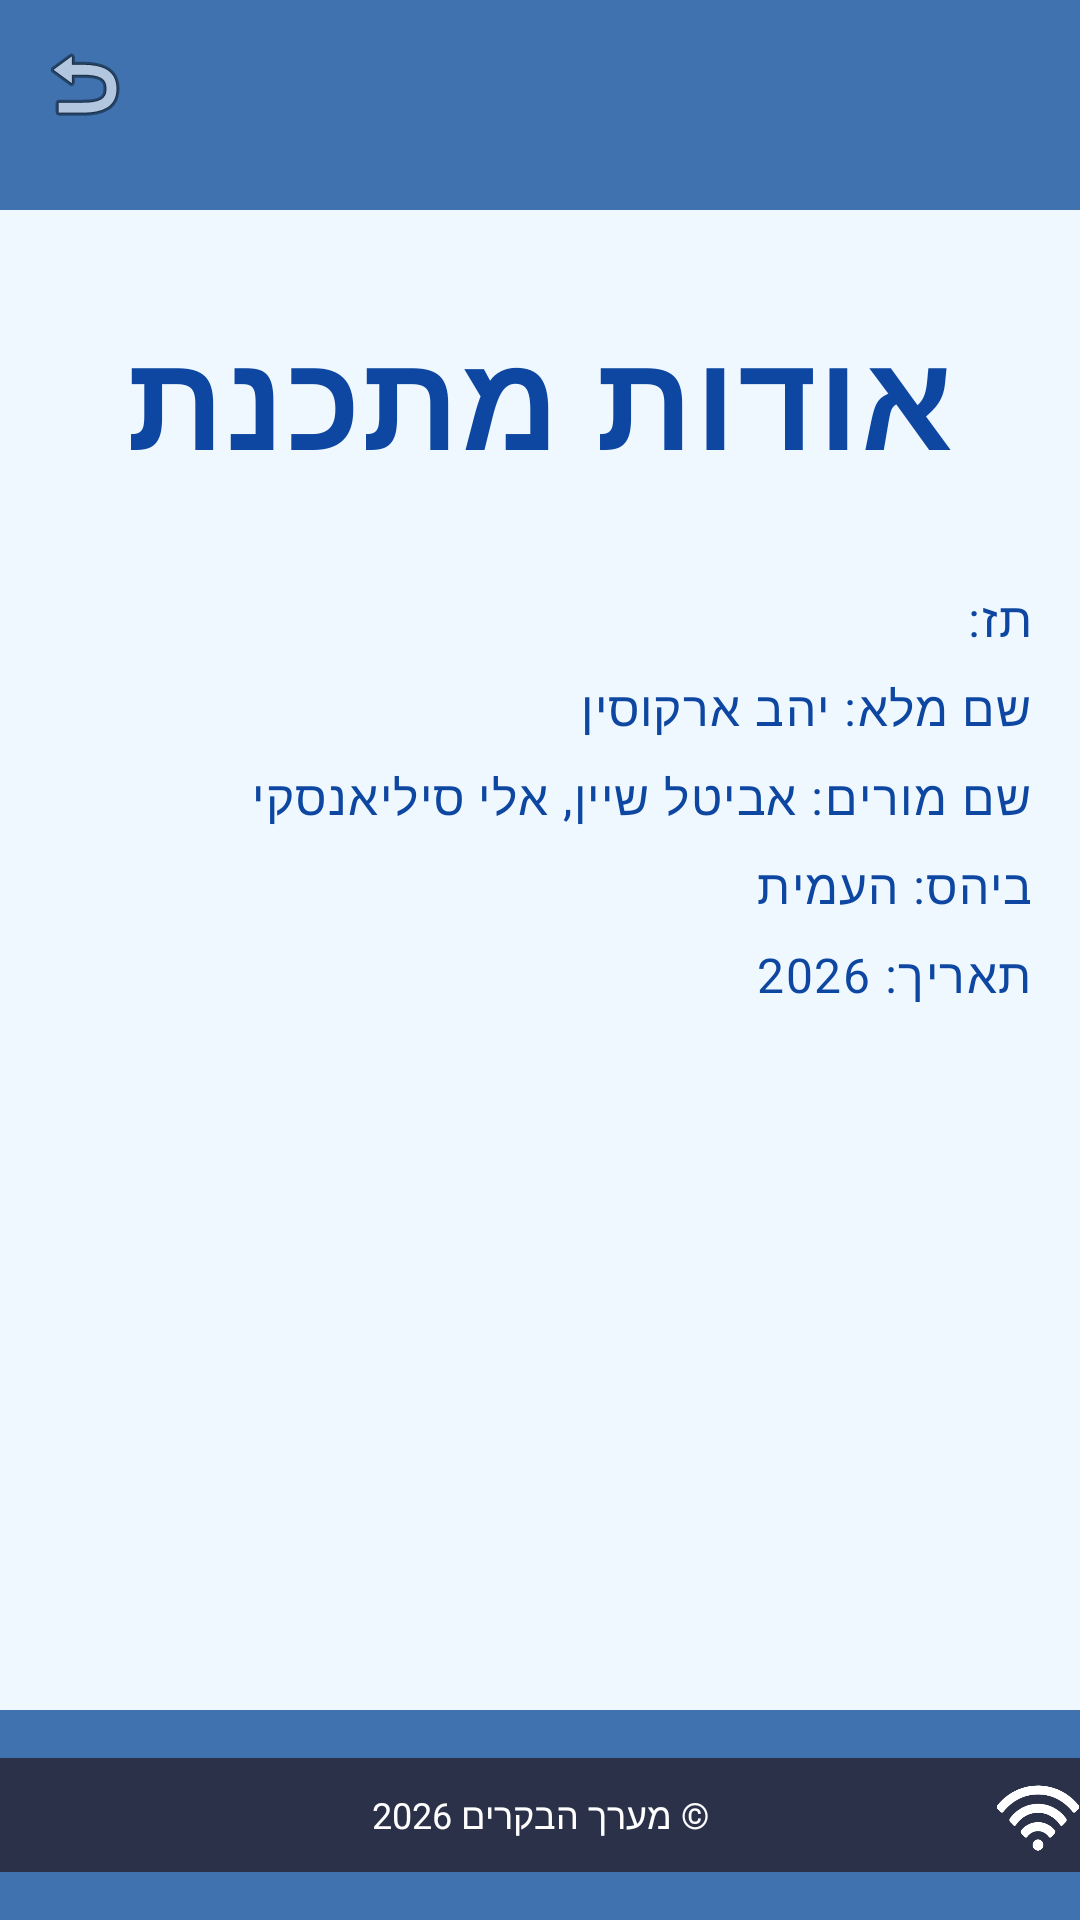

Point at icon controls on the screen. Image size 1080px×1920px, points as (x,y).
wifi: (1038,1818)
